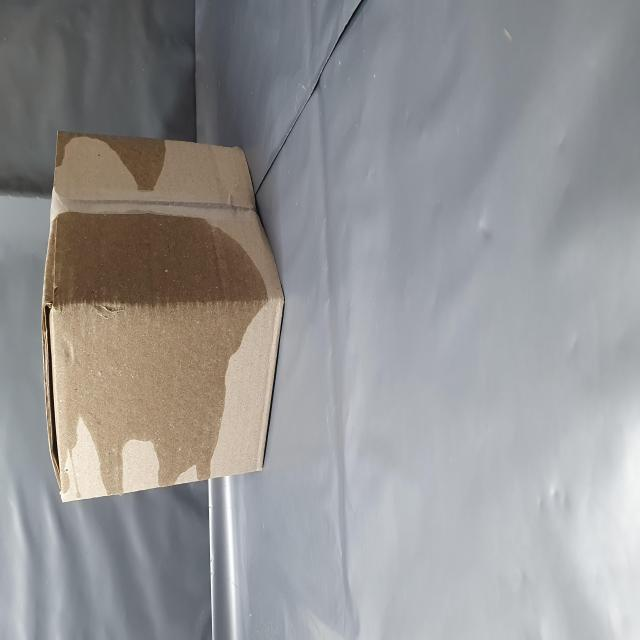wet: (78, 83, 240, 513), (247, 95, 291, 322)
